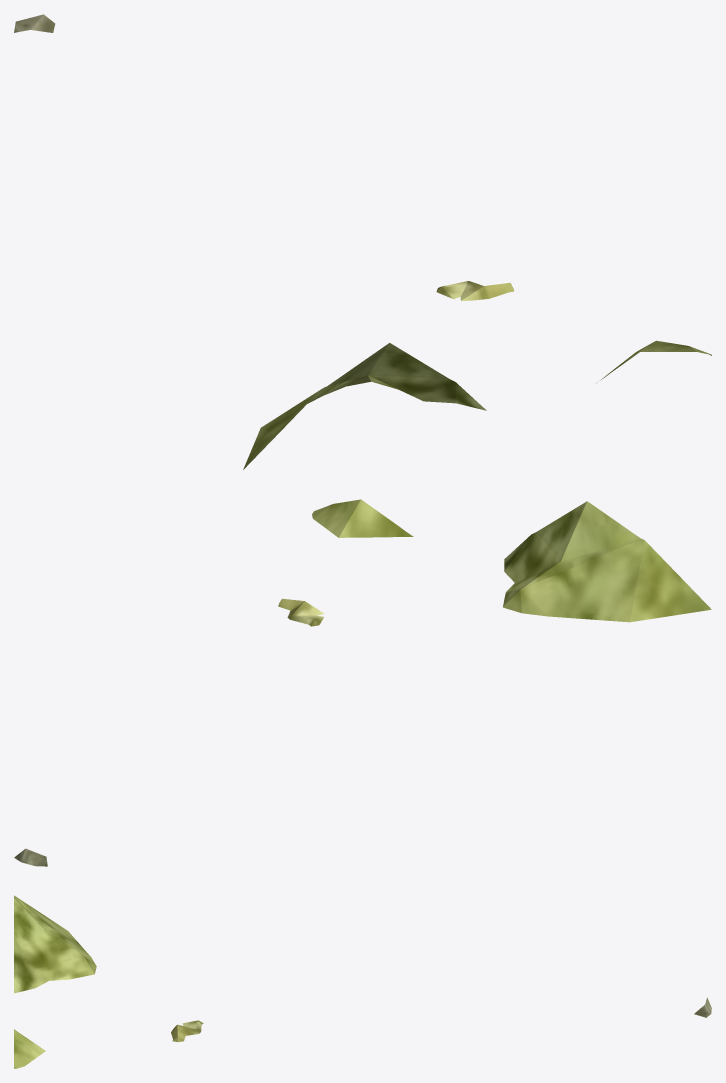
3 views of the same model, one above another, from view 1: azimuth 30°, elevation 25°; view 2: azimuth 150°, elevation 25°; view 3: azimuth 270°, elevation 25° (orthographic). The views are drawn at different scales.
Bounding box in the file's own units: 1.36 × 0.2543 × 2.55.
1 material, 1 textured.
